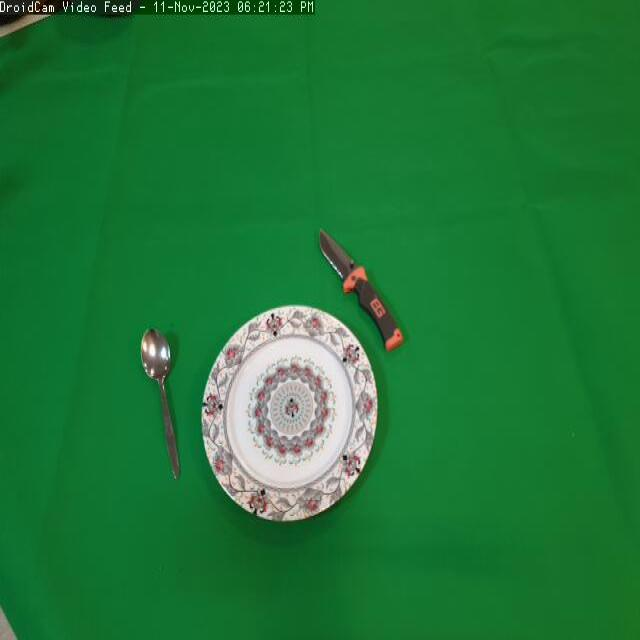knife: (312, 215, 403, 358)
plate: (194, 304, 384, 534)
spoon: (133, 310, 195, 480)
